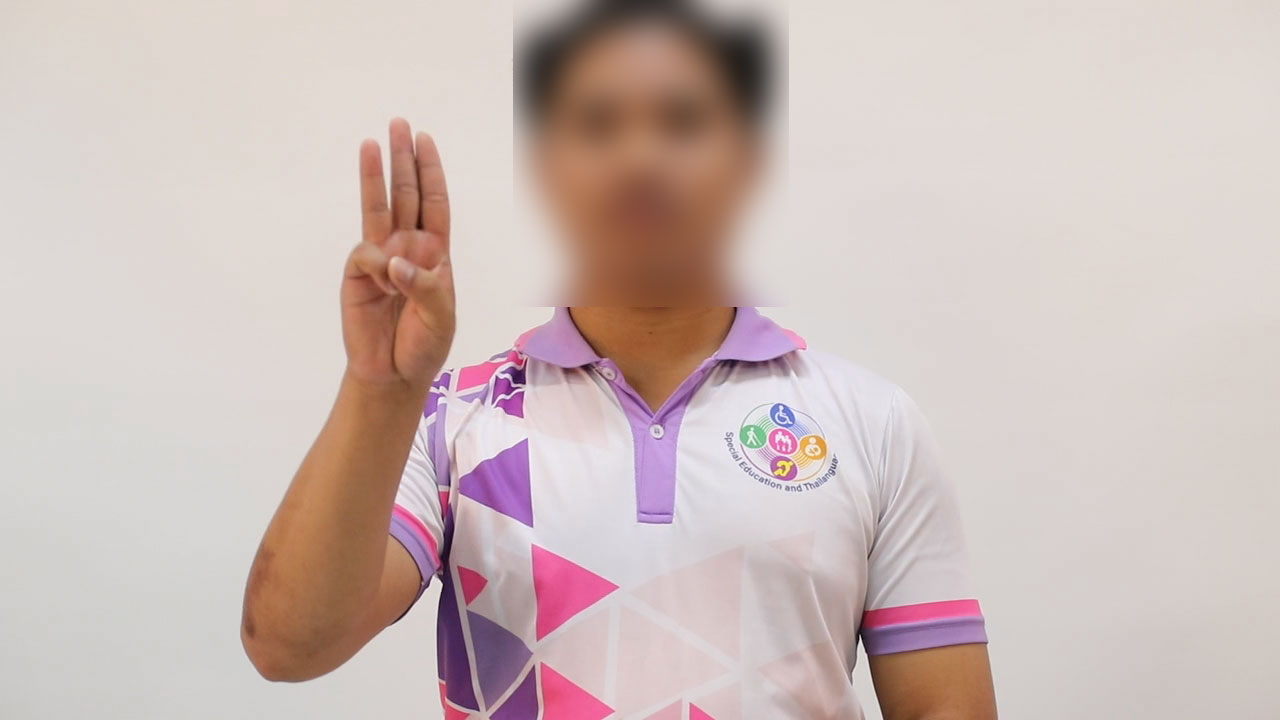wor: (328, 110, 464, 412)
